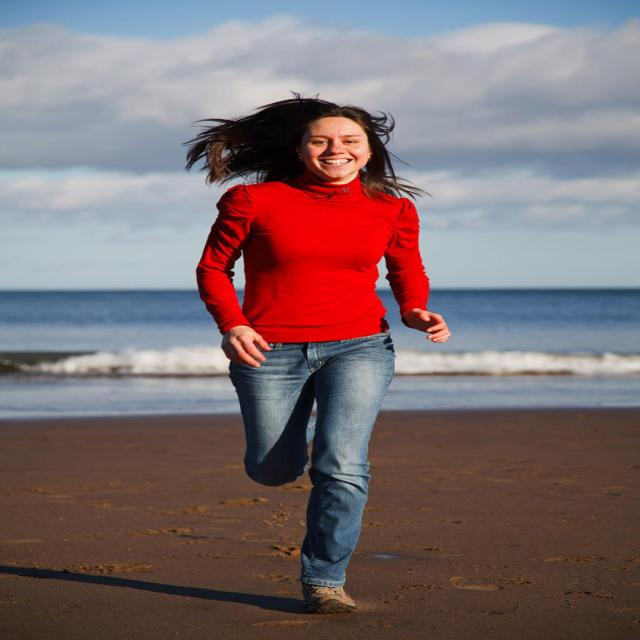Face: (276, 106, 387, 185)
